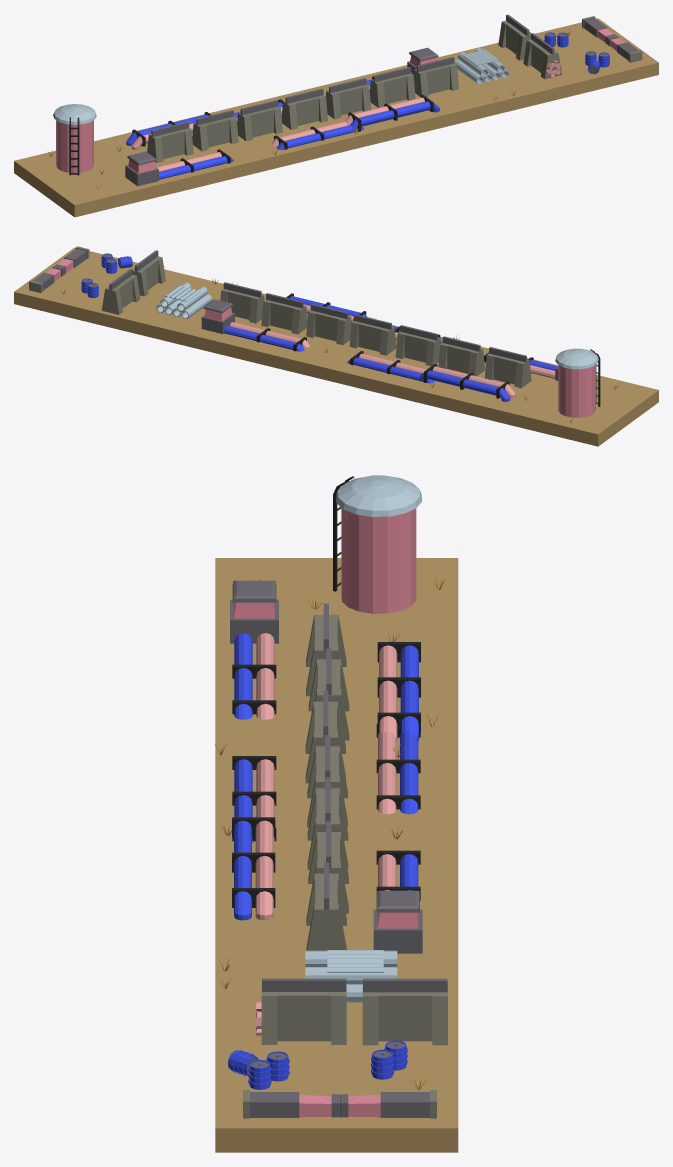
Rendered from Fora-Fabrica-2.glb.
3 views of the same model, one above another, from view 1: azimuth 30°, elevation 25°; view 2: azimuth 150°, elevation 25°; view 3: azimuth 270°, elevation 25° (orthographic). The views are drawn at different scales.
Parts seen in each view (by area): view 1: CHAO.012, SILO.002, MURO.004, MURO.007, MURO.006, MURO.002, MURO.005, MURO.003, MURO.001, CANO.005, CANO.006, CANO.019 (+8 smaller); view 2: CHAO.012, SILO.002, CANO.003, MURO.004, MURO.002, MURO.005, MURO.003, MURO.007, MURO.006, MURO.001, CANO.020, MURO.022 (+9 smaller); view 3: CHAO.012, SILO.002, MURO.022, MURO.023, CANO.005, CANO.003, CANO.019, CANO.004, BLOCO.008, MURO.001, BLOCO.006, CANO.006 (+10 smaller).
Boxes of the visible parts, x1=… form: CHAO.012: x1=14, y1=18, x2=658, y2=217; SILO.002: x1=53, y1=104, x2=96, y2=175; MURO.004: x1=281, y1=88, x2=327, y2=129; MURO.007: x1=192, y1=110, x2=238, y2=151; MURO.006: x1=237, y1=100, x2=282, y2=141; MURO.002: x1=369, y1=67, x2=415, y2=107; MURO.005: x1=147, y1=121, x2=193, y2=162; MURO.003: x1=325, y1=78, x2=371, y2=119; MURO.001: x1=413, y1=57, x2=458, y2=97; CANO.005: x1=345, y1=94, x2=439, y2=132; CANO.006: x1=271, y1=121, x2=363, y2=149; CANO.019: x1=156, y1=149, x2=233, y2=179; CHAO.012: x1=14, y1=247, x2=658, y2=446; SILO.002: x1=555, y1=348, x2=600, y2=417; CANO.003: x1=419, y1=364, x2=515, y2=401; MURO.004: x1=349, y1=314, x2=396, y2=355; MURO.002: x1=261, y1=293, x2=307, y2=334; MURO.005: x1=484, y1=347, x2=531, y2=388; MURO.003: x1=306, y1=304, x2=351, y2=345; MURO.007: x1=438, y1=336, x2=484, y2=376; MURO.006: x1=395, y1=325, x2=440, y2=366; MURO.001: x1=220, y1=282, x2=264, y2=323; CANO.020: x1=224, y1=322, x2=310, y2=351; MURO.022: x1=101, y1=268, x2=140, y2=314; CHAO.012: x1=215, y1=558, x2=458, y2=1152; SILO.002: x1=333, y1=475, x2=422, y2=613; MURO.022: x1=362, y1=978, x2=447, y2=1045; MURO.023: x1=261, y1=978, x2=346, y2=1044; CANO.005: x1=232, y1=817, x2=275, y2=920; CANO.003: x1=377, y1=642, x2=420, y2=741; CANO.019: x1=232, y1=633, x2=276, y2=719; CANO.004: x1=376, y1=723, x2=420, y2=814; BLOCO.008: x1=373, y1=890, x2=422, y2=953; MURO.001: x1=306, y1=862, x2=346, y2=950; BLOCO.006: x1=230, y1=580, x2=278, y2=643; CANO.006: x1=232, y1=756, x2=276, y2=843.
Bounding box in the file's own units: 50 × 5.7 × 9.03.
